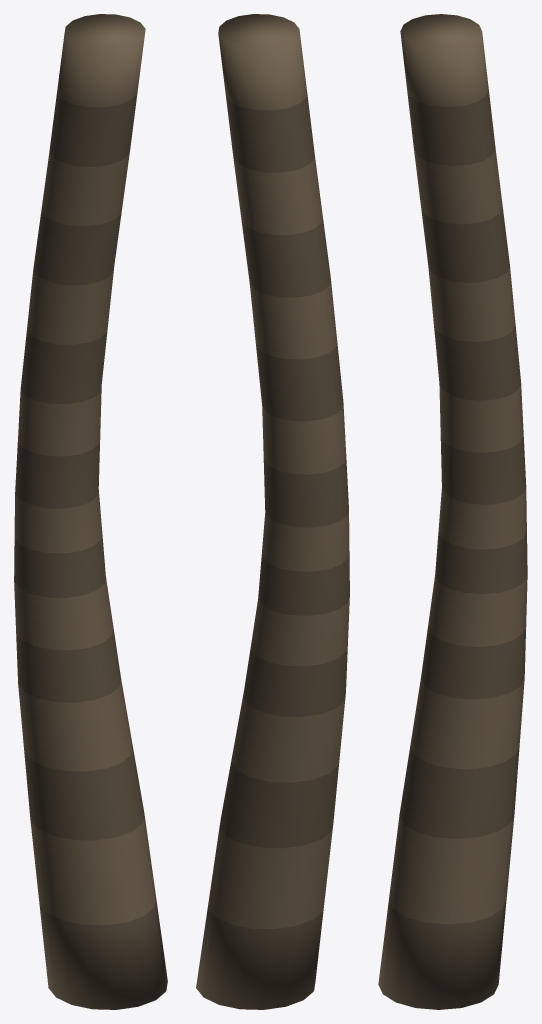
Rendered from palm_tree.glb.
3 renders of one model, left to right at view 1: azimuth 30°, elevation 25°; view 2: azimuth 210°, elevation 25°; view 3: azimuth 270°, elevation 25°, orthographic.
Visible parts, largest first — view 1: Cylinder; view 2: Cylinder; view 3: Cylinder.
Boxes of the visible parts, x1,y1,x2,y2 form: Cylinder: [14, 14, 167, 1009]; Cylinder: [196, 14, 349, 1009]; Cylinder: [378, 14, 527, 1009].
Size of the model in its own units: 2.35 by 17.99 by 2.56.
